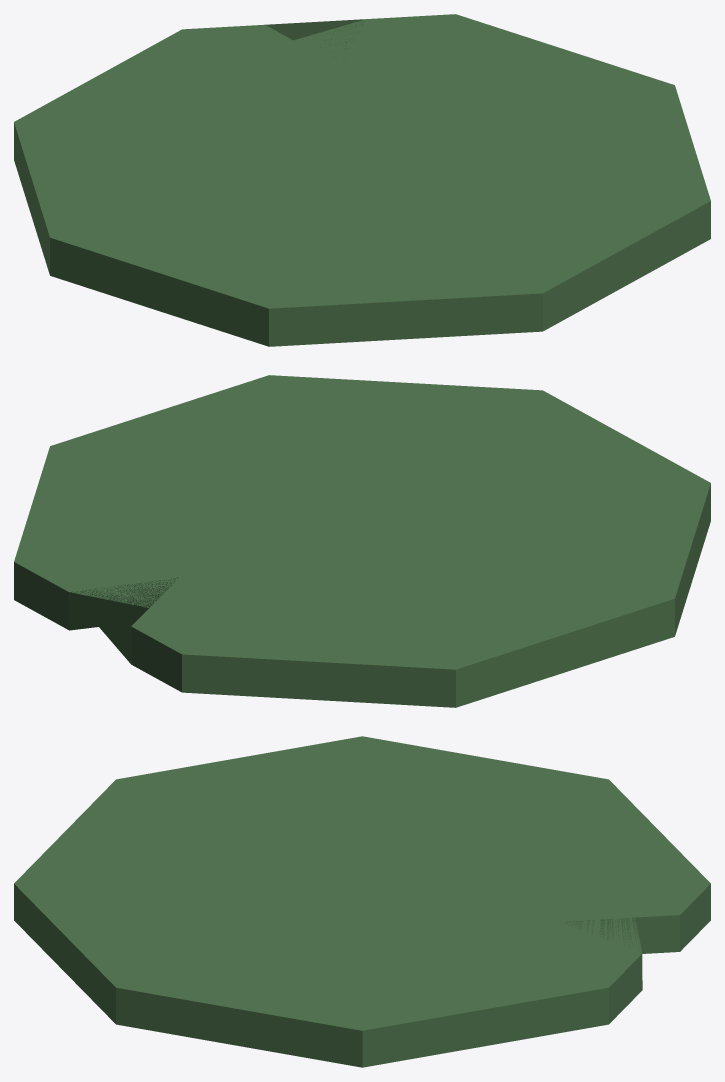
File: Lilypad.fbx
The picture shows the model from 3 angles, top to bottom: view 1: azimuth 30°, elevation 25°; view 2: azimuth 150°, elevation 25°; view 3: azimuth 270°, elevation 25°; orthographic projection. The views are drawn at different scales.
Parts seen in each view (by area): view 1: Lilypad; view 2: Lilypad; view 3: Lilypad.
Boxes of the visible parts, x1,y1,x2,y2 form: Lilypad: (14, 14, 710, 346); Lilypad: (14, 375, 710, 707); Lilypad: (14, 736, 710, 1067).
Bounding box in the file's own units: 200 × 11.67 × 200.
